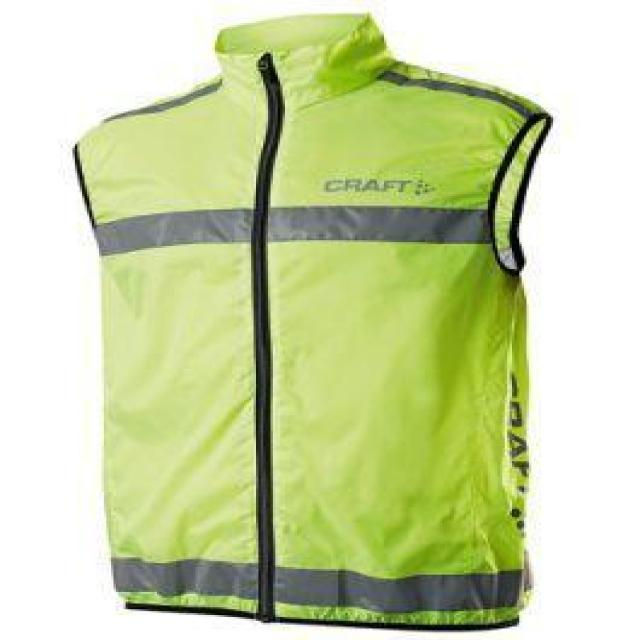Vest: (65, 13, 548, 634)
